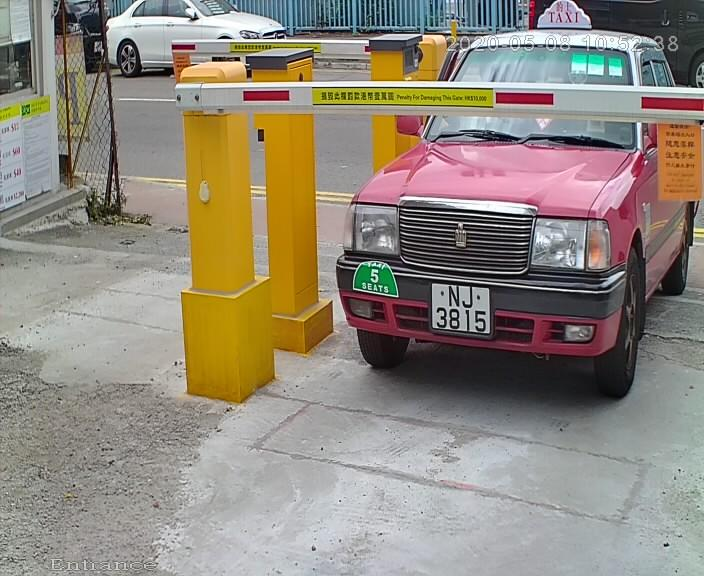Car: (329, 1, 699, 396)
License Plate: (425, 281, 497, 340)
